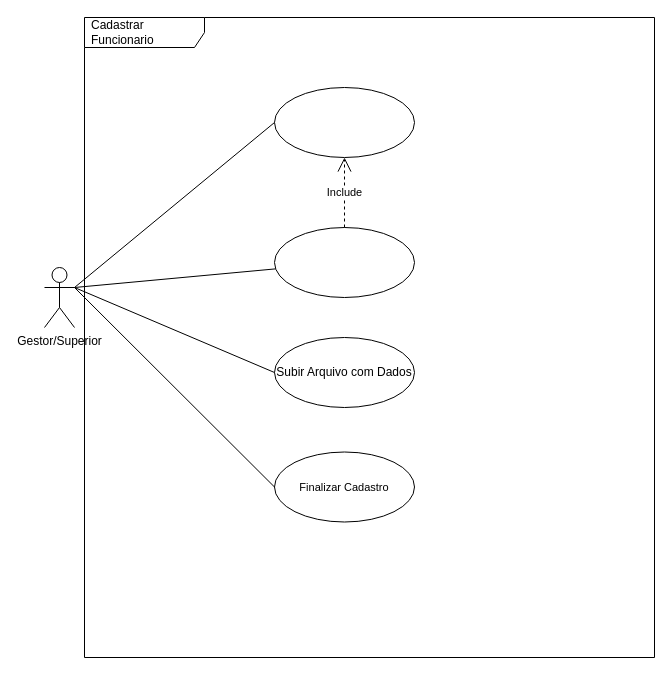
The diagram is 672 pixels wide and 675 high, and some of its shapes have lost their labels. The shapes that lost their labels are listed below. From the top down, each one's centre as x and y in pixels, then its label:
At point 344,122: "Efetuar Login".
At point 344,262: "Acessar Cadastro Funcionario".
